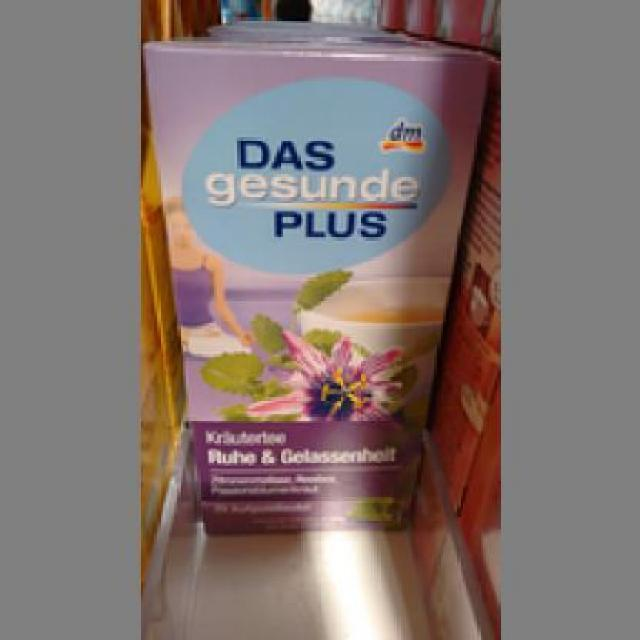Tea: (140, 34, 486, 532)
